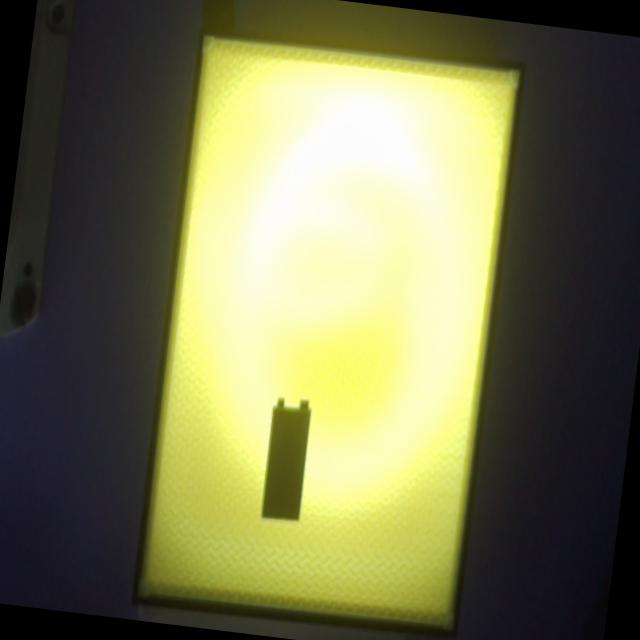bateria: (259, 398, 311, 522)
mesa: (130, 24, 526, 640)
